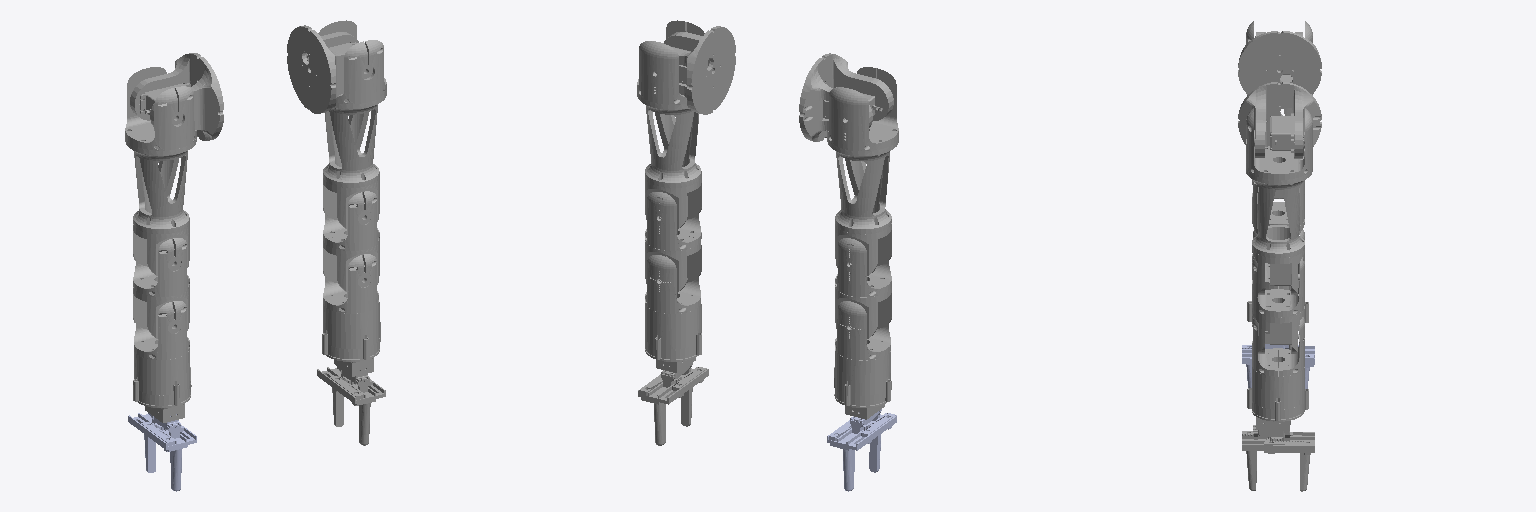
--- Render facts (derived) ---
3 views of the same robot in one strip: view 1: azimuth 30°, elevation 25°; view 2: azimuth 150°, elevation 25°; view 3: azimuth 270°, elevation 25° (orthographic).
Robot: dual_arm21_03 — 14 links, 13 joints (10 revolute, 3 fixed); root link dummy; default pose: all joints at 0.
Links seen in each view (by area): view 1: link_L2, link_R2, link_R4, link_L4, link_R1, link_L1, link_R3, link_L3, link_REnd, l_LEnd, link_R5, link_L5; view 2: link_L2, link_R2, link_R4, link_L4, link_R1, link_L1, link_R3, link_L3, link_REnd, l_LEnd; view 3: link_R2, link_R1, link_R4, link_L1, link_R3, link_REnd, link_L3, l_LEnd, link_L4.
Link boxes in pixels (left/top/right/bottom): link_L2: left=125, top=67, right=196, bottom=275; link_R2: left=318, top=20, right=386, bottom=229; link_R4: left=322, top=254, right=380, bottom=359; link_L4: left=133, top=301, right=191, bottom=405; link_R1: left=287, top=25, right=372, bottom=113; link_L1: left=130, top=53, right=223, bottom=140; link_R3: left=323, top=191, right=379, bottom=292; link_L3: left=133, top=238, right=189, bottom=338; link_REnd: left=317, top=367, right=385, bottom=445; l_LEnd: left=128, top=413, right=196, bottom=491; link_R5: left=326, top=349, right=379, bottom=376; link_L5: left=138, top=395, right=190, bottom=422; link_L2: left=827, top=67, right=898, bottom=275; link_R2: left=637, top=20, right=704, bottom=229; link_R4: left=645, top=255, right=701, bottom=359; link_L4: left=834, top=301, right=891, bottom=405; link_R1: left=655, top=26, right=735, bottom=114; link_L1: left=799, top=53, right=893, bottom=141; link_R3: left=645, top=192, right=701, bottom=292; link_L3: left=835, top=238, right=891, bottom=338; link_REnd: left=638, top=363, right=708, bottom=445; l_LEnd: left=827, top=409, right=896, bottom=491; link_R2: left=1246, top=108, right=1312, bottom=294; link_R1: left=1238, top=82, right=1321, bottom=158; link_R4: left=1247, top=316, right=1308, bottom=420; link_L1: left=1238, top=31, right=1321, bottom=108; link_R3: left=1252, top=257, right=1304, bottom=353; link_REnd: left=1242, top=422, right=1314, bottom=491; link_L3: left=1252, top=179, right=1304, bottom=234; l_LEnd: left=1242, top=344, right=1314, bottom=388; link_L4: left=1247, top=229, right=1308, bottom=331.
Size in the robot's own frame: 0.4114 by 0.1269 by 0.6482 metres.
12 mesh visuals loaded from 13 distinct referenced files (12 binary STL); not drawn: 1 (reference not matched to a file when rendering).

URDF robot description (dual_arm21_03):
<?xml version="1.0" encoding="utf-8" ?>
<!-- This URDF was automatically created by SolidWorks to URDF Exporter! Originally created by Stephen Brawner ([email redacted]) 
     Commit Version: 1.5.1-0-g916b5db  Build Version: 1.5.7152.31018
     For more information, please see http://wiki.ros.org/sw_urdf_exporter -->
<robot name="dual_arm21_03">
    <link name="dummy" />
    <link name="base_link">
        
<inertial>
            <origin xyz="-0.0022325 -0.0020338 -0.75741" rpy="0 0 0" />
            <mass value="6.9625" />
            <inertia ixx="0.097957" ixy="-6.4175E-07" ixz="-1.1798E-07" iyy="0.093258" iyz="5.0592E-05" izz="0.02273" />
        </inertial>

        <visual>
            <origin xyz="0 0 0" rpy="0 0 0" />
            <geometry>
                <mesh filename="package://dual_arm21_03/meshes/base_link.STL" />
            </geometry>
            <material name="">
                <color rgba="0.25098 0.25098 0.25098 1" />
            </material>
        </visual>
        <collision>
            <origin xyz="0 0 0" rpy="0 0 0" />
            <geometry>
                <mesh filename="package://dual_arm21_03/meshes/base_link.STL" />
            </geometry>
        </collision>
    </link>
    <joint name="dummy_joint" type="fixed">
        <parent link="dummy" />
        <child link="base_link" />
    </joint>
    <link name="link_L1">
        
<inertial>
            <origin xyz="4.8989E-05 0.002766 0.034352" rpy="0 0 0" />
            <mass value="0.40814" />
            <inertia ixx="0.00058922" ixy="-5.3929E-07" ixz="-9.126E-07" iyy="0.00045995" iyz="-2.8438E-05" izz="0.00051861" />
        </inertial>

        <visual>
            <origin xyz="0 0 0" rpy="0 0 0" />
            <geometry>
                <mesh filename="package://dual_arm21_03/meshes/link_L1.STL" />
            </geometry>
            <material name="">
                <color rgba="0.69804 0.69804 0.69804 1" />
            </material>
        </visual>
        <collision>
            <origin xyz="0 0 0" rpy="0 0 0" />
            <geometry>
                <mesh filename="package://dual_arm21_03/meshes/link_L1.STL" />
            </geometry>
        </collision>
    </link>
    <joint name="joint_L1" type="revolute">
        <origin xyz="-0.089733 -0.00053275 -0.071898" rpy="1.5708 1.563 -1.5708" />
        <parent link="base_link" />
        <child link="link_L1" />
        <axis xyz="0 0 1" />
        <limit lower="-3.14" upper="0" effort="6" velocity="7.47" />
    </joint>
    <link name="link_L2">
        
<inertial>
            <origin xyz="0.11352 8.2932E-06 -0.043652" rpy="0 0 0" />
            <mass value="0.60548" />
            <inertia ixx="0.00053136" ixy="1.1318E-07" ixz="5.4777E-06" iyy="0.0010439" iyz="-2.4727E-08" izz="0.0010658" />
        </inertial>

        <visual>
            <origin xyz="0 0 0" rpy="0 0 0" />
            <geometry>
                <mesh filename="package://dual_arm21_03/meshes/link_L2.STL" />
            </geometry>
            <material name="">
                <color rgba="0.69804 0.69804 0.69804 1" />
            </material>
        </visual>
        <collision>
            <origin xyz="0 0 0" rpy="0 0 0" />
            <geometry>
                <mesh filename="package://dual_arm21_03/meshes/link_L2.STL" />
            </geometry>
        </collision>
    </link>
    <joint name="joint_L2" type="revolute">
        <origin xyz="0 -0.042022 0.0675" rpy="1.5708 0 0" />
        <parent link="link_L1" />
        <child link="link_L2" />
        <axis xyz="0 0 1" />
        <limit lower="0" upper="3.14" effort="6" velocity="7.47" />
    </joint>
    <link name="link_L3">
        
<inertial>
            <origin xyz="0.062478 -0.0001814 -0.036523" rpy="0 0 0" />
            <mass value="0.28375" />
            <inertia ixx="0.00016881" ixy="5.4727E-08" ixz="3.486E-06" iyy="0.00020948" iyz="-2.1493E-08" izz="0.00020397" />
        </inertial>

        <visual>
            <origin xyz="0 0 0" rpy="0 0 0" />
            <geometry>
                <mesh filename="package://dual_arm21_03/meshes/link_L3.STL" />
            </geometry>
            <material name="">
                <color rgba="0.69804 0.69804 0.69804 1" />
            </material>
        </visual>
        <collision>
            <origin xyz="0 0 0" rpy="0 0 0" />
            <geometry>
                <mesh filename="package://dual_arm21_03/meshes/link_L3.STL" />
            </geometry>
        </collision>
    </link>
    <joint name="joint_L3" type="revolute">
        <origin xyz="0.22997 7.5018E-05 -0.0078501" rpy="0.0029006 0 0" />
        <parent link="link_L2" />
        <child link="link_L3" />
        <axis xyz="0 0.0050348 0.99999" />
        <limit lower="-1.57" upper="1.57" effort="3" velocity="5" />
    </joint>
    <link name="link_L4">
        
<inertial>
            <origin xyz="0.067879 -0.00011993 -0.032046" rpy="0 0 0" />
            <mass value="0.30348" />
            <inertia ixx="0.00021482" ixy="2.1519E-08" ixz="5.4602E-08" iyy="0.00019097" iyz="4.2746E-07" izz="0.00019215" />
        </inertial>

        <visual>
            <origin xyz="0 0 0" rpy="0 0 0" />
            <geometry>
                <mesh filename="package://dual_arm21_03/meshes/link_L4.STL" />
            </geometry>
            <material name="">
                <color rgba="0.69804 0.69804 0.69804 1" />
            </material>
        </visual>
        <collision>
            <origin xyz="0 0 0" rpy="0 0 0" />
            <geometry>
                <mesh filename="package://dual_arm21_03/meshes/link_L4.STL" />
            </geometry>
        </collision>
    </link>
    <joint name="joint_L4" type="revolute">
        <origin xyz="0.09825 0 0" rpy="7.6237E-05 -6.2372E-05 -0.012388" />
        <parent link="link_L3" />
        <child link="link_L4" />
        <axis xyz="0 0.0051106 0.99999" />
        <limit lower="-1.57" upper="1.57" effort="2" velocity="5" />
    </joint>
    <link name="link_L5">
        
<inertial>
            <origin xyz="-0.0032484 -8.3263E-08 0.0074802" rpy="0 0 0" />
            <mass value="0.03175" />
            <inertia ixx="1.2586E-05" ixy="-4.116E-11" ixz="6.6927E-07" iyy="1.4878E-05" iyz="-2.3282E-11" izz="2.2965E-05" />
        </inertial>

        <visual>
            <origin xyz="0 0 0" rpy="0 0 0" />
            <geometry>
                <mesh filename="package://dual_arm21_03/meshes/link_L5.STL" />
            </geometry>
            <material name="">
                <color rgba="0.69804 0.69804 0.69804 1" />
            </material>
        </visual>
        <collision>
            <origin xyz="0 0 0" rpy="0 0 0" />
            <geometry>
                <mesh filename="package://dual_arm21_03/meshes/link_L5.STL" />
            </geometry>
        </collision>
    </link>
    <joint name="joint_L5" type="revolute">
        <origin xyz="0.12075 -0.00017121 -0.0335" rpy="-1.5708 -1.5587 -1.5708" />
        <parent link="link_L4" />
        <child link="link_L5" />
        <axis xyz="0 0 1" />
        <limit lower="-1.57" upper="1.57" effort="1.5" velocity="4" />
    </joint>
    <link name="l_LEnd">
        
<inertial>
            <origin xyz="-0.0022923 -6.1164E-05 -0.0033154" rpy="0 0 0" />
            <mass value="0.12712" />
            <inertia ixx="3.9103E-05" ixy="2.3622E-06" ixz="-4.2203E-07" iyy="8.5295E-05" iyz="-5.5207E-09" izz="6.8515E-05" />
        </inertial>

        <visual>
            <origin xyz="0 0 0" rpy="0 0 0" />
            <geometry>
                <mesh filename="package://dual_arm21_03/meshes/l_LEnd.STL" />
            </geometry>
            <material name="">
                <color rgba="0.79216 0.81961 0.93333 1" />
            </material>
        </visual>
        <collision>
            <origin xyz="0 0 0" rpy="0 0 0" />
            <geometry>
                <mesh filename="package://dual_arm21_03/meshes/l_LEnd.STL" />
            </geometry>
        </collision>
    </link>
    <joint name="joint_LEnd" type="fixed">
        <origin xyz="0 0 0.0595" rpy="0 0 0" />
        <parent link="link_L5" />
        <child link="l_LEnd" />
        <axis xyz="0 0 0" />
    </joint>
    <link name="link_R1">
        
<inertial>
            <origin xyz="0.00023536 -0.002766 0.034357" rpy="0 0 0" />
            <mass value="0.40814" />
            <inertia ixx="0.00058922" ixy="-5.952E-07" ixz="9.126E-07" iyy="0.00045995" iyz="2.8439E-05" izz="0.00051861" />
        </inertial>

        <visual>
            <origin xyz="0 0 0" rpy="0 0 0" />
            <geometry>
                <mesh filename="package://dual_arm21_03/meshes/link_R1.STL" />
            </geometry>
            <material name="">
                <color rgba="0.69804 0.69804 0.69804 1" />
            </material>
        </visual>
        <collision>
            <origin xyz="0 0 0" rpy="0 0 0" />
            <geometry>
                <mesh filename="package://dual_arm21_03/meshes/link_R1.STL" />
            </geometry>
        </collision>
    </link>
    <joint name="joint_R1" type="revolute">
        <origin xyz="0.085711 -0.00053275 -0.071898" rpy="-1.5708 1.563 -1.5708" />
        <parent link="base_link" />
        <child link="link_R1" />
        <axis xyz="0 0 1" />
        <limit lower="0" upper="3.14" effort="6" velocity="7" />
    </joint>
    <link name="link_R2">
        
<inertial>
            <origin xyz="0.11352 8.2932E-06 -0.043652" rpy="0 0 0" />
            <mass value="0.60548" />
            <inertia ixx="0.00053136" ixy="1.1318E-07" ixz="5.4777E-06" iyy="0.0010439" iyz="-2.4727E-08" izz="0.0010658" />
        </inertial>

        <visual>
            <origin xyz="0 0 0" rpy="0 0 0" />
            <geometry>
                <mesh filename="package://dual_arm21_03/meshes/link_R2.STL" />
            </geometry>
            <material name="">
                <color rgba="0.69804 0.69804 0.69804 1" />
            </material>
        </visual>
        <collision>
            <origin xyz="0 0 0" rpy="0 0 0" />
            <geometry>
                <mesh filename="package://dual_arm21_03/meshes/link_R2.STL" />
            </geometry>
        </collision>
    </link>
    <joint name="joint_R2" type="revolute">
        <origin xyz="0 0.042022 0.0675" rpy="-1.5708 0 0" />
        <parent link="link_R1" />
        <child link="link_R2" />
        <axis xyz="0 0 1" />
        <limit lower="-3.14" upper="0" effort="6" velocity="7" />
    </joint>
    <link name="link_R3">
        
<inertial>
            <origin xyz="0.062478 -0.0001814 -0.036523" rpy="0 0 0" />
            <mass value="0.28375" />
            <inertia ixx="0.00016881" ixy="5.4727E-08" ixz="3.486E-06" iyy="0.00020948" iyz="-2.1493E-08" izz="0.00020397" />
        </inertial>

        <visual>
            <origin xyz="0 0 0" rpy="0 0 0" />
            <geometry>
                <mesh filename="package://dual_arm21_03/meshes/link_R3.STL" />
            </geometry>
            <material name="">
                <color rgba="0.69804 0.69804 0.69804 1" />
            </material>
        </visual>
        <collision>
            <origin xyz="0 0 0" rpy="0 0 0" />
            <geometry>
                <mesh filename="package://dual_arm21_03/meshes/link_R3.STL" />
            </geometry>
        </collision>
    </link>
    <joint name="joint_R3" type="revolute">
        <origin xyz="0.22997 7.5018E-05 -0.0078501" rpy="0.0029006 0 0" />
        <parent link="link_R2" />
        <child link="link_R3" />
        <axis xyz="0 0.0050348 0.99999" />
        <limit lower="-1.57" upper="1.57" effort="3" velocity="5" />
    </joint>
    <link name="link_R4">
        
<inertial>
            <origin xyz="0.067879 -0.00010907 -0.030548" rpy="0 0 0" />
            <mass value="0.30348" />
            <inertia ixx="0.00021482" ixy="2.1013E-08" ixz="5.5404E-08" iyy="0.00019097" iyz="4.2756E-07" izz="0.00019214" />
        </inertial>

        <visual>
            <origin xyz="0 0 0" rpy="0 0 0" />
            <geometry>
                <mesh filename="package://dual_arm21_03/meshes/link_R4.STL" />
            </geometry>
            <material name="">
                <color rgba="0.69804 0.69804 0.69804 1" />
            </material>
        </visual>
        <collision>
            <origin xyz="0 0 0" rpy="0 0 0" />
            <geometry>
                <mesh filename="package://dual_arm21_03/meshes/link_R4.STL" />
            </geometry>
        </collision>
    </link>
    <joint name="joint_R4" type="revolute">
        <origin xyz="0.09825 0 -0.0015" rpy="0 0 0" />
        <parent link="link_R3" />
        <child link="link_R4" />
        <axis xyz="0 0.0050348 0.99999" />
        <limit lower="-1.57" upper="1.57" effort="2" velocity="5" />
    </joint>
    <link name="link_R5">
        
<inertial>
            <origin xyz="-0.0032484 -8.4238E-08 0.0074802" rpy="0 0 0" />
            <mass value="0.03175" />
            <inertia ixx="1.2586E-05" ixy="-4.133E-11" ixz="6.6927E-07" iyy="1.4878E-05" iyz="-2.3201E-11" izz="2.2965E-05" />
        </inertial>

        <visual>
            <origin xyz="0 0 0" rpy="0 0 0" />
            <geometry>
                <mesh filename="package://dual_arm21_03/meshes/link_R5.STL" />
            </geometry>
            <material name="">
                <color rgba="0.69804 0.69804 0.69804 1" />
            </material>
        </visual>
        <collision>
            <origin xyz="0 0 0" rpy="0 0 0" />
            <geometry>
                <mesh filename="package://dual_arm21_03/meshes/link_R5.STL" />
            </geometry>
        </collision>
    </link>
    <joint name="joint_R5" type="revolute">
        <origin xyz="0.12075 -0.00016111 -0.032" rpy="-1.5708 -1.5586 -1.5708" />
        <parent link="link_R4" />
        <child link="link_R5" />
        <axis xyz="0 0 1" />
        <limit lower="-1.57" upper="1.57" effort="1.5" velocity="4" />
    </joint>
    <link name="link_REnd">
        
<inertial>
            <origin xyz="-0.0028509 6.3831E-05 -0.0033154" rpy="0 0 0" />
            <mass value="0.12712" />
            <inertia ixx="3.9103E-05" ixy="2.3622E-06" ixz="-4.2203E-07" iyy="8.5295E-05" iyz="-5.5148E-09" izz="6.8515E-05" />
        </inertial>

        <visual>
            <origin xyz="0 0 0" rpy="0 0 0" />
            <geometry>
                <mesh filename="package://dual_arm21_03/meshes/link_REnd.STL" />
            </geometry>
            <material name="">
                <color rgba="0.69804 0.69804 0.69804 1" />
            </material>
        </visual>
        <collision>
            <origin xyz="0 0 0" rpy="0 0 0" />
            <geometry>
                <mesh filename="package://dual_arm21_03/meshes/link_REnd.STL" />
            </geometry>
        </collision>
    </link>
    <joint name="joint_REnd" type="fixed">
        <origin xyz="0.00075 -0.000125 0.0595" rpy="0 0 0" />
        <parent link="link_R5" />
        <child link="link_REnd" />
        <axis xyz="0 0 0" />
    </joint>
    
<transmission name="trans_joint_L1">
        <type>transmission_interface/SimpleTransmission</type>
        <joint name="joint_L1">
            <hardwareInterface>hardware_interface/PositionJointInterface</hardwareInterface>
        </joint>
        <actuator name="joint_L1_motor">
            <hardwareInterface>hardware_interface/PositionJointInterface</hardwareInterface>
            <mechanicalReduction>1</mechanicalReduction>
        </actuator>
    </transmission>
    <transmission name="trans_joint_L2">
        <type>transmission_interface/SimpleTransmission</type>
        <joint name="joint_L2">
            <hardwareInterface>hardware_interface/PositionJointInterface</hardwareInterface>
        </joint>
        <actuator name="joint_L2_motor">
            <hardwareInterface>hardware_interface/PositionJointInterface</hardwareInterface>
            <mechanicalReduction>1</mechanicalReduction>
        </actuator>
    </transmission>
    <transmission name="trans_joint_L3">
        <type>transmission_interface/SimpleTransmission</type>
        <joint name="joint_L3">
            <hardwareInterface>hardware_interface/PositionJointInterface</hardwareInterface>
        </joint>
        <actuator name="joint_L3_motor">
            <hardwareInterface>hardware_interface/PositionJointInterface</hardwareInterface>
            <mechanicalReduction>1</mechanicalReduction>
        </actuator>
    </transmission>
    <transmission name="trans_joint_L4">
        <type>transmission_interface/SimpleTransmission</type>
        <joint name="joint_L4">
            <hardwareInterface>hardware_interface/PositionJointInterface</hardwareInterface>
        </joint>
        <actuator name="joint_L4_motor">
            <hardwareInterface>hardware_interface/PositionJointInterface</hardwareInterface>
            <mechanicalReduction>1</mechanicalReduction>
        </actuator>
    </transmission>
    <transmission name="trans_joint_L5">
        <type>transmission_interface/SimpleTransmission</type>
        <joint name="joint_L5">
            <hardwareInterface>hardware_interface/PositionJointInterface</hardwareInterface>
        </joint>
        <actuator name="joint_L5_motor">
            <hardwareInterface>hardware_interface/PositionJointInterface</hardwareInterface>
            <mechanicalReduction>1</mechanicalReduction>
        </actuator>
    </transmission>
    <transmission name="trans_joint_R1">
        <type>transmission_interface/SimpleTransmission</type>
        <joint name="joint_R1">
            <hardwareInterface>hardware_interface/PositionJointInterface</hardwareInterface>
        </joint>
        <actuator name="joint_R1_motor">
            <hardwareInterface>hardware_interface/PositionJointInterface</hardwareInterface>
            <mechanicalReduction>1</mechanicalReduction>
        </actuator>
    </transmission>
    <transmission name="trans_joint_R2">
        <type>transmission_interface/SimpleTransmission</type>
        <joint name="joint_R2">
            <hardwareInterface>hardware_interface/PositionJointInterface</hardwareInterface>
        </joint>
        <actuator name="joint_R2_motor">
            <hardwareInterface>hardware_interface/PositionJointInterface</hardwareInterface>
            <mechanicalReduction>1</mechanicalReduction>
        </actuator>
    </transmission>
    <transmission name="trans_joint_R3">
        <type>transmission_interface/SimpleTransmission</type>
        <joint name="joint_R3">
            <hardwareInterface>hardware_interface/PositionJointInterface</hardwareInterface>
        </joint>
        <actuator name="joint_R3_motor">
            <hardwareInterface>hardware_interface/PositionJointInterface</hardwareInterface>
            <mechanicalReduction>1</mechanicalReduction>
        </actuator>
    </transmission>
    <transmission name="trans_joint_R4">
        <type>transmission_interface/SimpleTransmission</type>
        <joint name="joint_R4">
            <hardwareInterface>hardware_interface/PositionJointInterface</hardwareInterface>
        </joint>
        <actuator name="joint_R4_motor">
            <hardwareInterface>hardware_interface/PositionJointInterface</hardwareInterface>
            <mechanicalReduction>1</mechanicalReduction>
        </actuator>
    </transmission>
    <transmission name="trans_joint_R5">
        <type>transmission_interface/SimpleTransmission</type>
        <joint name="joint_R5">
            <hardwareInterface>hardware_interface/PositionJointInterface</hardwareInterface>
        </joint>
        <actuator name="joint_R5_motor">
            <hardwareInterface>hardware_interface/PositionJointInterface</hardwareInterface>
            <mechanicalReduction>1</mechanicalReduction>
        </actuator>
    </transmission>
    <gazebo>
        <plugin name="gazebo_ros_control" filename="libgazebo_ros_control.so">
            <robotNamespace>/</robotNamespace>
        </plugin>
    </gazebo>
    <transmission name="trans_joint_L1">
        <type>transmission_interface/SimpleTransmission</type>
        <joint name="joint_L1">
            <hardwareInterface>hardware_interface/PositionJointInterface</hardwareInterface>
        </joint>
        <actuator name="joint_L1_motor">
            <hardwareInterface>hardware_interface/PositionJointInterface</hardwareInterface>
            <mechanicalReduction>1</mechanicalReduction>
        </actuator>
    </transmission>
    <transmission name="trans_joint_L2">
        <type>transmission_interface/SimpleTransmission</type>
        <joint name="joint_L2">
            <hardwareInterface>hardware_interface/PositionJointInterface</hardwareInterface>
        </joint>
        <actuator name="joint_L2_motor">
            <hardwareInterface>hardware_interface/PositionJointInterface</hardwareInterface>
            <mechanicalReduction>1</mechanicalReduction>
        </actuator>
    </transmission>
    <transmission name="trans_joint_L3">
        <type>transmission_interface/SimpleTransmission</type>
        <joint name="joint_L3">
            <hardwareInterface>hardware_interface/PositionJointInterface</hardwareInterface>
        </joint>
        <actuator name="joint_L3_motor">
            <hardwareInterface>hardware_interface/PositionJointInterface</hardwareInterface>
            <mechanicalReduction>1</mechanicalReduction>
        </actuator>
    </transmission>
    <transmission name="trans_joint_L4">
        <type>transmission_interface/SimpleTransmission</type>
        <joint name="joint_L4">
            <hardwareInterface>hardware_interface/PositionJointInterface</hardwareInterface>
        </joint>
        <actuator name="joint_L4_motor">
            <hardwareInterface>hardware_interface/PositionJointInterface</hardwareInterface>
            <mechanicalReduction>1</mechanicalReduction>
        </actuator>
    </transmission>
    <transmission name="trans_joint_L5">
        <type>transmission_interface/SimpleTransmission</type>
        <joint name="joint_L5">
            <hardwareInterface>hardware_interface/PositionJointInterface</hardwareInterface>
        </joint>
        <actuator name="joint_L5_motor">
            <hardwareInterface>hardware_interface/PositionJointInterface</hardwareInterface>
            <mechanicalReduction>1</mechanicalReduction>
        </actuator>
    </transmission>
    <transmission name="trans_joint_R1">
        <type>transmission_interface/SimpleTransmission</type>
        <joint name="joint_R1">
            <hardwareInterface>hardware_interface/PositionJointInterface</hardwareInterface>
        </joint>
        <actuator name="joint_R1_motor">
            <hardwareInterface>hardware_interface/PositionJointInterface</hardwareInterface>
            <mechanicalReduction>1</mechanicalReduction>
        </actuator>
    </transmission>
    <transmission name="trans_joint_R2">
        <type>transmission_interface/SimpleTransmission</type>
        <joint name="joint_R2">
            <hardwareInterface>hardware_interface/PositionJointInterface</hardwareInterface>
        </joint>
        <actuator name="joint_R2_motor">
            <hardwareInterface>hardware_interface/PositionJointInterface</hardwareInterface>
            <mechanicalReduction>1</mechanicalReduction>
        </actuator>
    </transmission>
    <transmission name="trans_joint_R3">
        <type>transmission_interface/SimpleTransmission</type>
        <joint name="joint_R3">
            <hardwareInterface>hardware_interface/PositionJointInterface</hardwareInterface>
        </joint>
        <actuator name="joint_R3_motor">
            <hardwareInterface>hardware_interface/PositionJointInterface</hardwareInterface>
            <mechanicalReduction>1</mechanicalReduction>
        </actuator>
    </transmission>
    <transmission name="trans_joint_R4">
        <type>transmission_interface/SimpleTransmission</type>
        <joint name="joint_R4">
            <hardwareInterface>hardware_interface/PositionJointInterface</hardwareInterface>
        </joint>
        <actuator name="joint_R4_motor">
            <hardwareInterface>hardware_interface/PositionJointInterface</hardwareInterface>
            <mechanicalReduction>1</mechanicalReduction>
        </actuator>
    </transmission>
    <transmission name="trans_joint_R5">
        <type>transmission_interface/SimpleTransmission</type>
        <joint name="joint_R5">
            <hardwareInterface>hardware_interface/PositionJointInterface</hardwareInterface>
        </joint>
        <actuator name="joint_R5_motor">
            <hardwareInterface>hardware_interface/PositionJointInterface</hardwareInterface>
            <mechanicalReduction>1</mechanicalReduction>
        </actuator>
    </transmission>
    <gazebo>
        <plugin name="gazebo_ros_control" filename="libgazebo_ros_control.so">
            <robotNamespace>/</robotNamespace>
        </plugin>
    </gazebo>
    <transmission name="trans_joint_L1">
        <type>transmission_interface/SimpleTransmission</type>
        <joint name="joint_L1">
            <hardwareInterface>hardware_interface/PositionJointInterface</hardwareInterface>
        </joint>
        <actuator name="joint_L1_motor">
            <hardwareInterface>hardware_interface/PositionJointInterface</hardwareInterface>
            <mechanicalReduction>1</mechanicalReduction>
        </actuator>
    </transmission>
    <transmission name="trans_joint_L2">
        <type>transmission_interface/SimpleTransmission</type>
        <joint name="joint_L2">
            <hardwareInterface>hardware_interface/PositionJointInterface</hardwareInterface>
        </joint>
        <actuator name="joint_L2_motor">
            <hardwareInterface>hardware_interface/PositionJointInterface</hardwareInterface>
            <mechanicalReduction>1</mechanicalReduction>
        </actuator>
    </transmission>
    <transmission name="trans_joint_L3">
        <type>transmission_interface/SimpleTransmission</type>
        <joint name="joint_L3">
            <hardwareInterface>hardware_interface/PositionJointInterface</hardwareInterface>
        </joint>
        <actuator name="joint_L3_motor">
            <hardwareInterface>hardware_interface/PositionJointInterface</hardwareInterface>
            <mechanicalReduction>1</mechanicalReduction>
        </actuator>
    </transmission>
    <transmission name="trans_joint_L4">
        <type>transmission_interface/SimpleTransmission</type>
        <joint name="joint_L4">
            <hardwareInterface>hardware_interface/PositionJointInterface</hardwareInterface>
        </joint>
        <actuator name="joint_L4_motor">
            <hardwareInterface>hardware_interface/PositionJointInterface</hardwareInterface>
            <mechanicalReduction>1</mechanicalReduction>
        </actuator>
    </transmission>
    <transmission name="trans_joint_L5">
        <type>transmission_interface/SimpleTransmission</type>
        <joint name="joint_L5">
            <hardwareInterface>hardware_interface/PositionJointInterface</hardwareInterface>
        </joint>
        <actuator name="joint_L5_motor">
            <hardwareInterface>hardware_interface/PositionJointInterface</hardwareInterface>
            <mechanicalReduction>1</mechanicalReduction>
        </actuator>
    </transmission>
    <transmission name="trans_joint_R1">
        <type>transmission_interface/SimpleTransmission</type>
        <joint name="joint_R1">
            <hardwareInterface>hardware_interface/PositionJointInterface</hardwareInterface>
        </joint>
        <actuator name="joint_R1_motor">
            <hardwareInterface>hardware_interface/PositionJointInterface</hardwareInterface>
            <mechanicalReduction>1</mechanicalReduction>
        </actuator>
    </transmission>
    <transmission name="trans_joint_R2">
        <type>transmission_interface/SimpleTransmission</type>
        <joint name="joint_R2">
            <hardwareInterface>hardware_interface/PositionJointInterface</hardwareInterface>
        </joint>
        <actuator name="joint_R2_motor">
            <hardwareInterface>hardware_interface/PositionJointInterface</hardwareInterface>
            <mechanicalReduction>1</mechanicalReduction>
        </actuator>
    </transmission>
    <transmission name="trans_joint_R3">
        <type>transmission_interface/SimpleTransmission</type>
        <joint name="joint_R3">
            <hardwareInterface>hardware_interface/PositionJointInterface</hardwareInterface>
        </joint>
        <actuator name="joint_R3_motor">
            <hardwareInterface>hardware_interface/PositionJointInterface</hardwareInterface>
            <mechanicalReduction>1</mechanicalReduction>
        </actuator>
    </transmission>
    <transmission name="trans_joint_R4">
        <type>transmission_interface/SimpleTransmission</type>
        <joint name="joint_R4">
            <hardwareInterface>hardware_interface/PositionJointInterface</hardwareInterface>
        </joint>
        <actuator name="joint_R4_motor">
            <hardwareInterface>hardware_interface/PositionJointInterface</hardwareInterface>
            <mechanicalReduction>1</mechanicalReduction>
        </actuator>
    </transmission>
    <transmission name="trans_joint_R5">
        <type>transmission_interface/SimpleTransmission</type>
        <joint name="joint_R5">
            <hardwareInterface>hardware_interface/PositionJointInterface</hardwareInterface>
        </joint>
        <actuator name="joint_R5_motor">
            <hardwareInterface>hardware_interface/PositionJointInterface</hardwareInterface>
            <mechanicalReduction>1</mechanicalReduction>
        </actuator>
    </transmission>
    <gazebo>
        <plugin name="gazebo_ros_control" filename="libgazebo_ros_control.so">
            <robotNamespace>/</robotNamespace>
        </plugin>
    </gazebo>
</robot>
